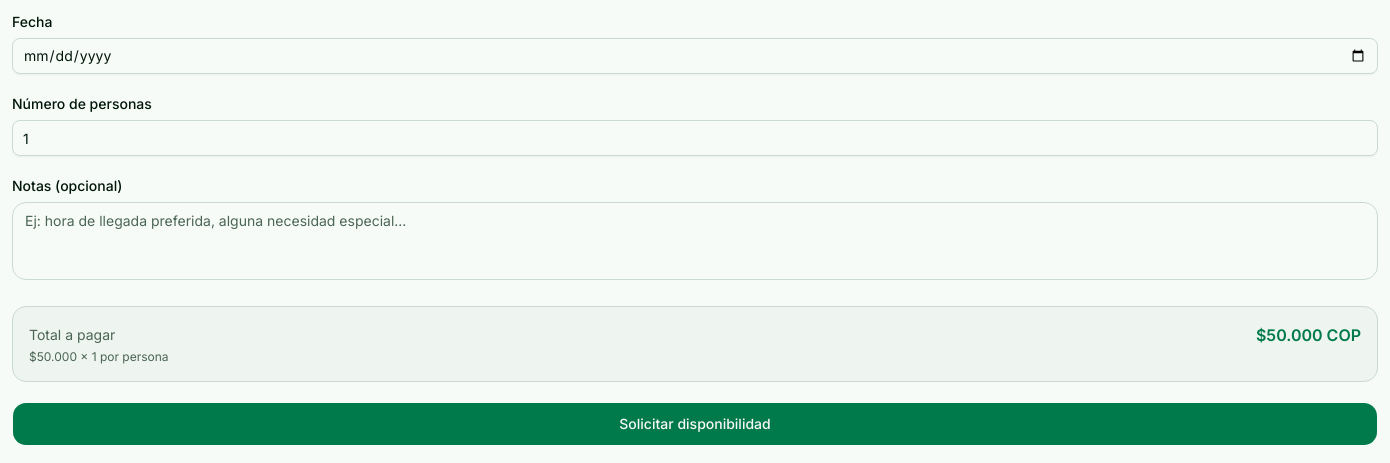
Test case: PackagePrereservaForm — form fields › disables the submit button and shows the pending label while the action is in flight
Step 1. Click the button "Solicitar disponibilidad" → (695, 424), box [12, 402, 1378, 446]
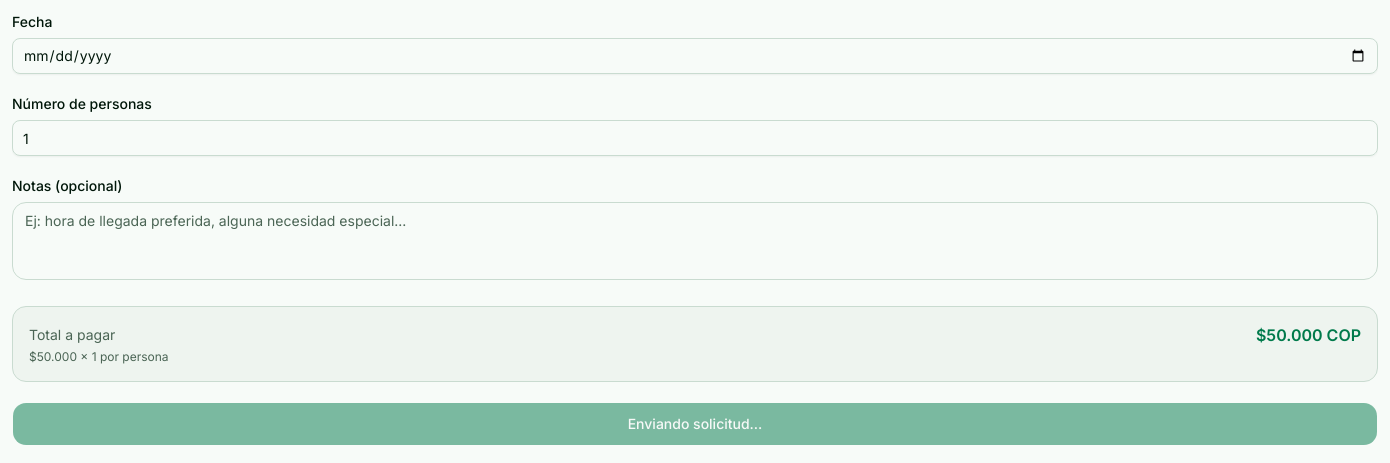
Check: the button "Enviando solicitud..." is disabled, box [12, 402, 1378, 446]
